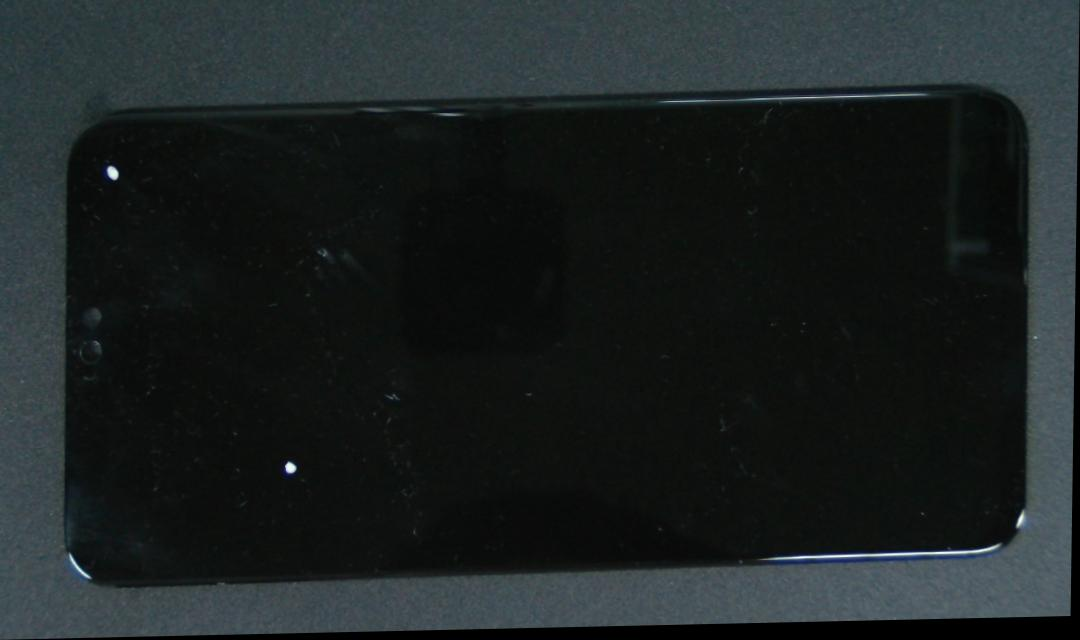Dislodged Screen: (266, 428, 319, 505), (92, 153, 143, 202)
